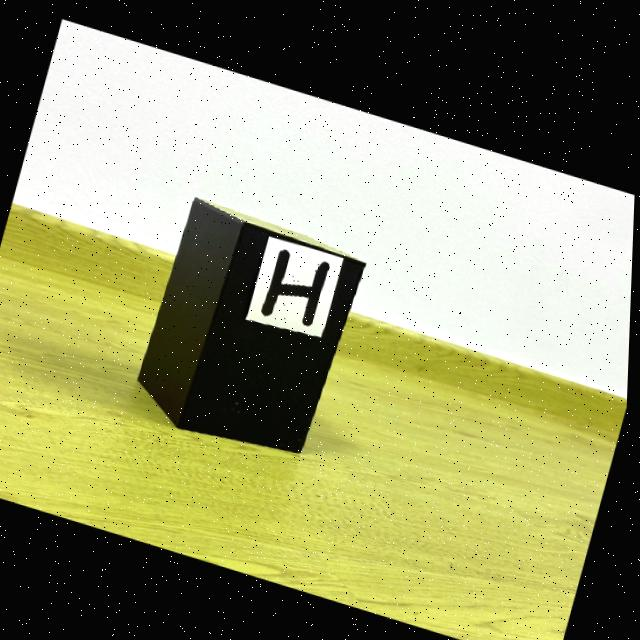H: (263, 245, 331, 321)
